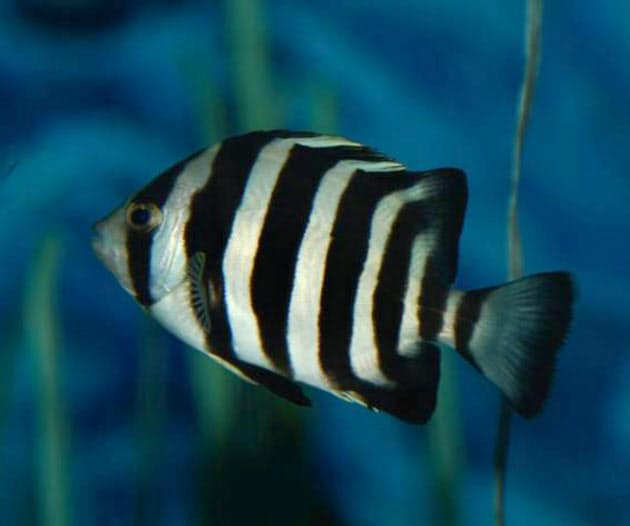azi: (93, 135, 531, 417)
